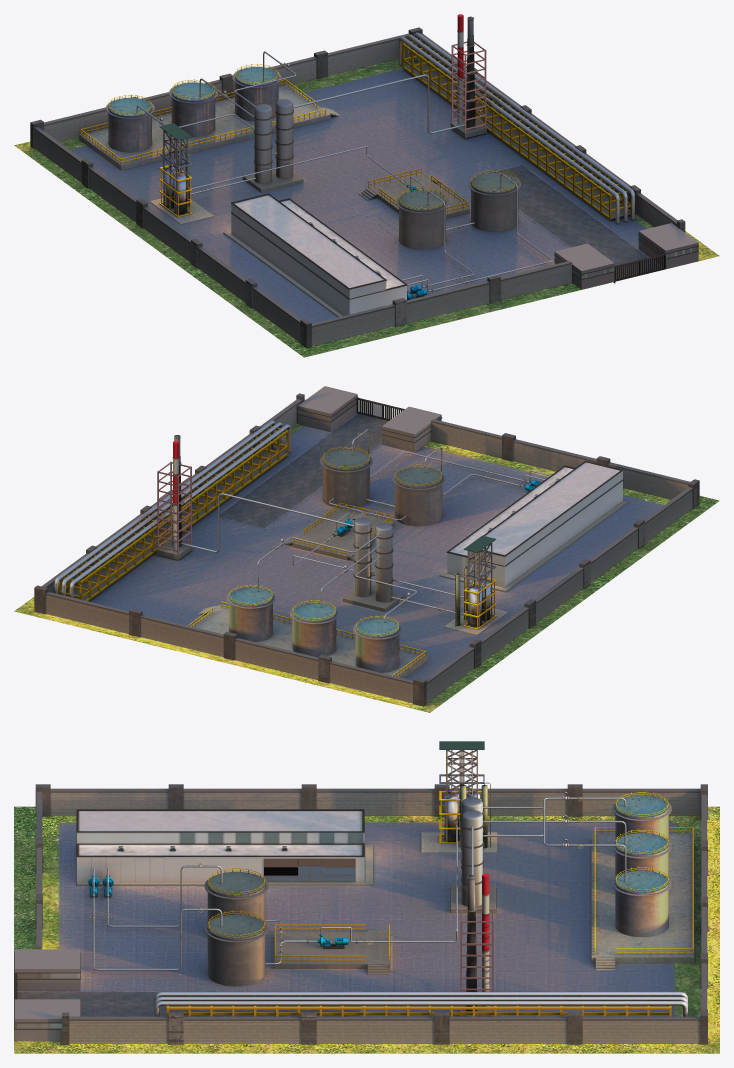
File: Cyberscene_Glb_V04-transformed.glb
3 views of the same model, one above another, from view 1: azimuth 30°, elevation 25°; view 2: azimuth 150°, elevation 25°; view 3: azimuth 270°, elevation 25° (orthographic). The views are drawn at different scales.
Parts seen in each view (by area): view 1: Main_ground, Boundry_wall, End_Storage_Tank, Control_room_Exterior, FP_Pipes, Gate, Distillation, BF_Nuclear, PreHeater, Tank_02, Tank_01, Stage (+3 smaller); view 2: Main_ground, Boundry_wall, Control_room_Exterior, End_Storage_Tank, FP_Pipes, Gate, Distillation, PreHeater, Tank_01, Tank_02, BF_Nuclear, Stage (+3 smaller); view 3: Main_ground, Boundry_wall, Control_room_Exterior, End_Storage_Tank, FP_Pipes, Gate, Stage, Tank_02, PreHeater, BF_Nuclear, Tank_01, Distillation (+3 smaller).
Part boxes in pixels (x1,y1,x2,y2): Main_ground: (14,56,719,357); Boundry_wall: (30,27,685,348); End_Storage_Tank: (79,64,340,170); Control_room_Exterior: (223,193,407,317); FP_Pipes: (398,32,634,223); Gate: (554,223,698,289); Distillation: (242,99,303,192); BF_Nuclear: (450,14,486,138); PreHeater: (150,123,213,224); Tank_02: (468,169,520,231); Tank_01: (396,187,448,249); Stage: (359,168,469,218); Main_ground: (14,399,719,712); Boundry_wall: (34,393,699,706); Control_room_Exterior: (439,460,627,592); End_Storage_Tank: (188,584,427,678); FP_Pipes: (54,420,290,601); Gate: (297,386,442,452); Distillation: (343,517,403,611); PreHeater: (444,535,508,634); Tank_01: (392,464,444,526); Tank_02: (320,446,372,508); BF_Nuclear: (156,435,192,559); Stage: (284,502,394,560); Main_ground: (14,806,719,1053); Boundry_wall: (35,784,707,1044); Control_room_Exterior: (76,809,373,885); End_Storage_Tank: (591,792,694,970); FP_Pipes: (154,991,688,1016); Gate: (14,949,80,1041); Stage: (274,924,390,974); Tank_02: (204,910,268,986); PreHeater: (421,741,497,852); BF_Nuclear: (459,873,494,1016); Tank_01: (204,867,268,922); Distillation: (450,797,495,913).
Size of what is drawn, in the model's own units: 131 by 36.28 by 159.
62 materials, 41 textured.
